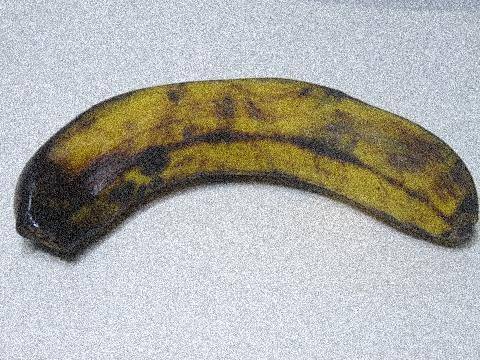overripe: (5, 65, 479, 265)
rotten: (18, 144, 126, 257)
